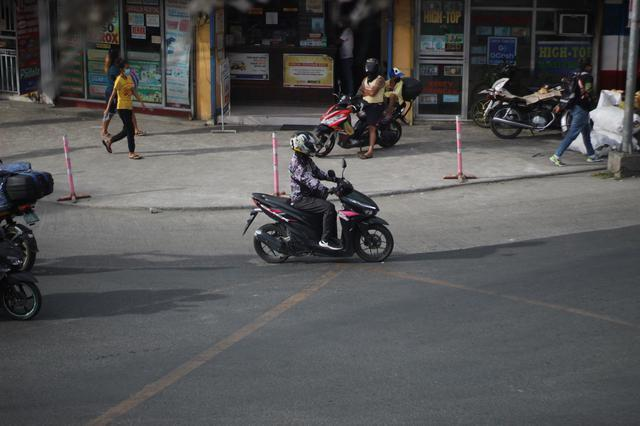helmet: (289, 131, 316, 158)
motorcycle: (242, 130, 394, 264)
